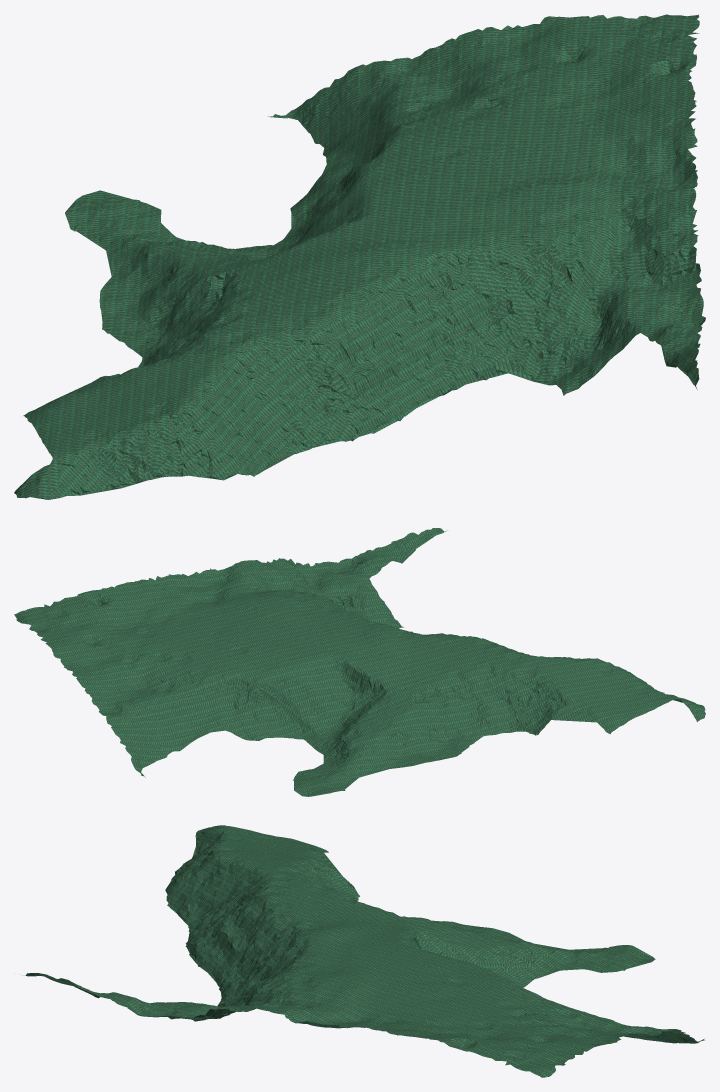
File: tacc-seabed.obj
3 views of the same model, one above another, from view 1: azimuth 30°, elevation 25°; view 2: azimuth 150°, elevation 25°; view 3: azimuth 270°, elevation 25° (orthographic). The views are drawn at different scales.
Visible parts, largest first — view 1: tacc-seabed; view 2: tacc-seabed; view 3: tacc-seabed.
Boxes of the visible parts, x1,y1,x2,y2 form: tacc-seabed: (14, 14, 705, 499); tacc-seabed: (14, 528, 705, 796); tacc-seabed: (14, 825, 704, 1077).
Bounding box in the file's own units: 129 × 16.91 × 115.
